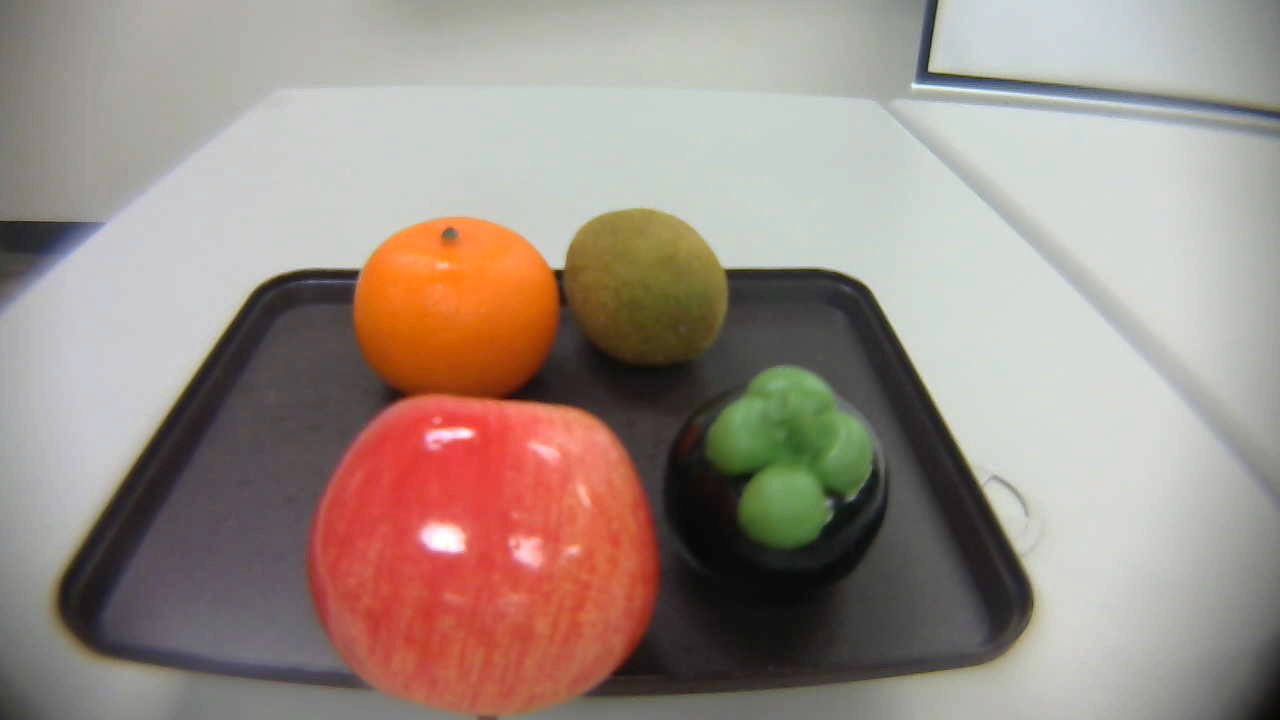kiwi fruit: (565, 204, 728, 379)
mangosteen: (651, 363, 910, 611)
orange: (345, 203, 560, 413)
red apple: (293, 388, 664, 720)
